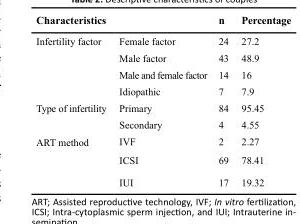table: (35, 34, 263, 187)
table column: (111, 34, 212, 187), (35, 34, 111, 187), (234, 34, 263, 187), (212, 34, 234, 187)
table row: (35, 150, 263, 170), (35, 132, 263, 150), (35, 48, 263, 65), (35, 65, 263, 82), (35, 82, 263, 99), (35, 115, 263, 132), (35, 170, 263, 187), (35, 99, 263, 115), (35, 34, 263, 48)
table spanning cell: (35, 34, 111, 99), (35, 132, 111, 187), (35, 99, 111, 132)
